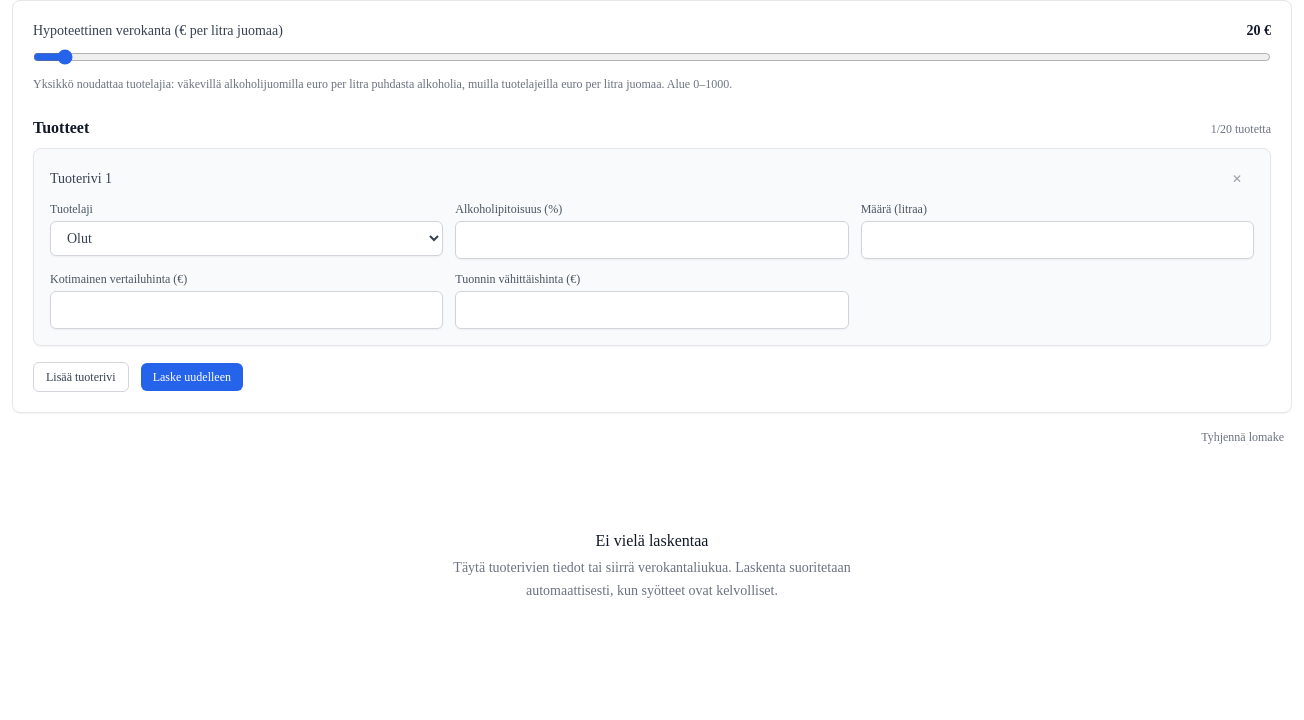
Test case: WhatIfPage — failure degradation › degrades a 403 (backend rejection) to the unavailable message
The width and height of the screenshot is (1304, 720).
In the field labelled "Alkoholipitoisuus (%)": {"x": 652, "y": 240} x1=455 y1=221 x2=849 y2=259, type "4,7"
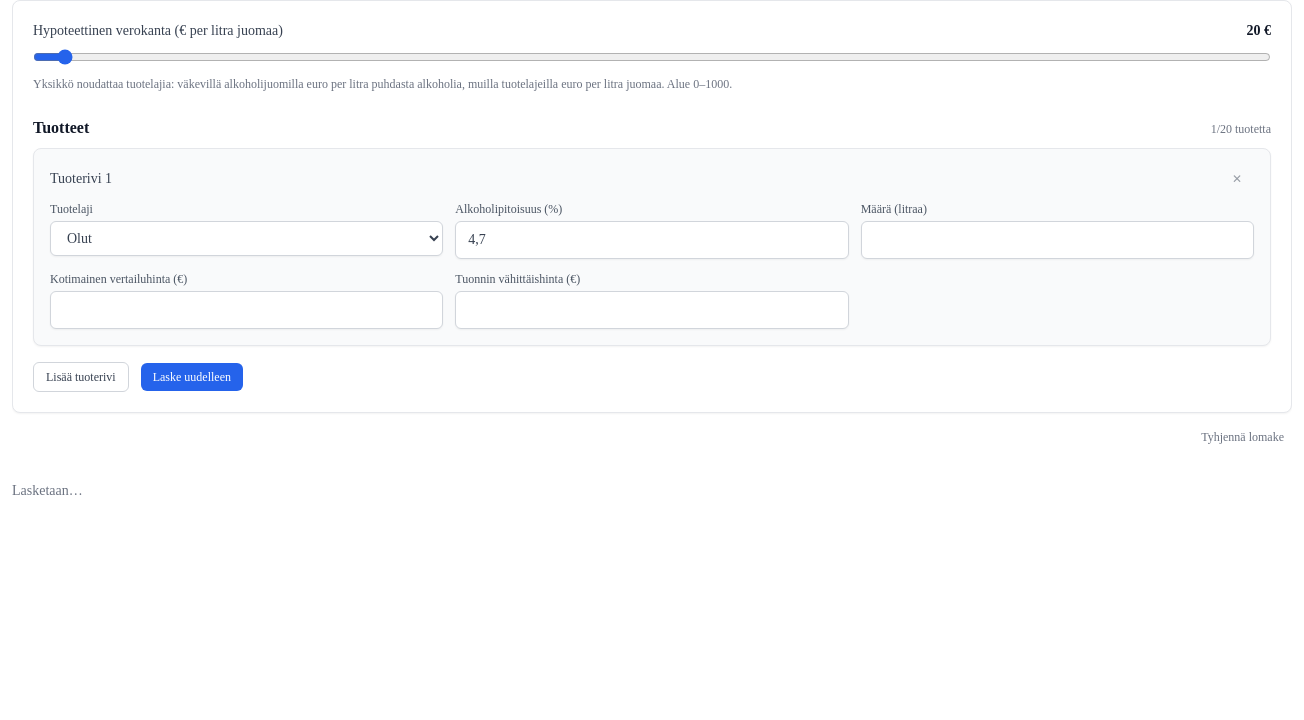
In the field labelled "Määrä (litraa)": {"x": 1057, "y": 240} x1=861 y1=221 x2=1254 y2=259, type "1"
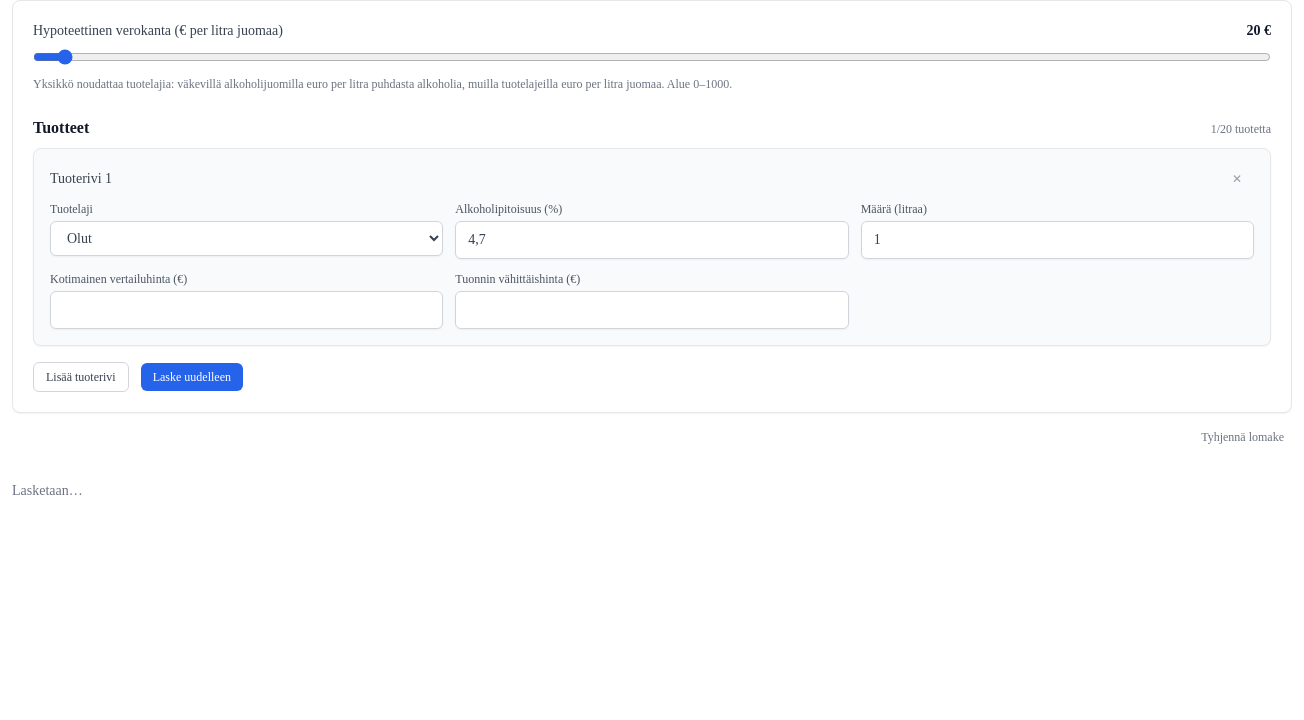
In the field labelled "Kotimainen vertailuhinta (€)": {"x": 247, "y": 310} x1=50 y1=291 x2=443 y2=329, type "12,98"
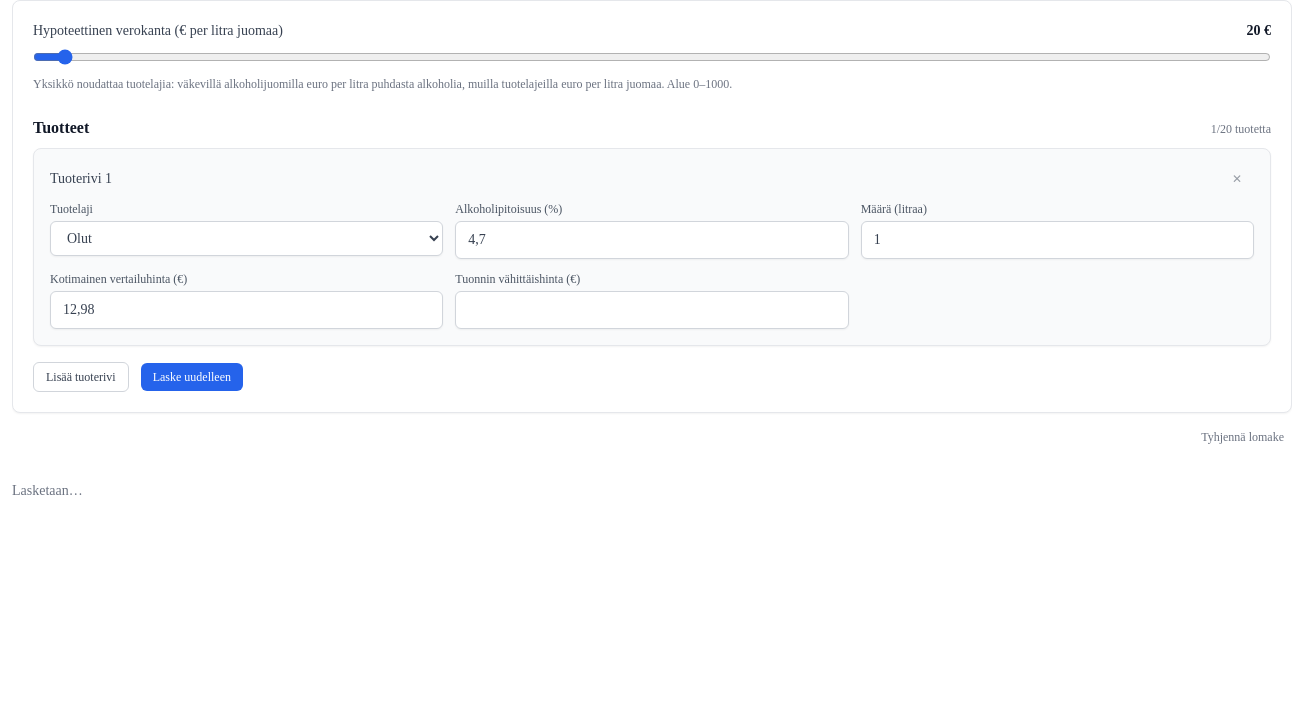
In the field labelled "Tuonnin vähittäishinta (€)": {"x": 652, "y": 310} x1=455 y1=291 x2=849 y2=329, type "0,89"
Wait 800 ms
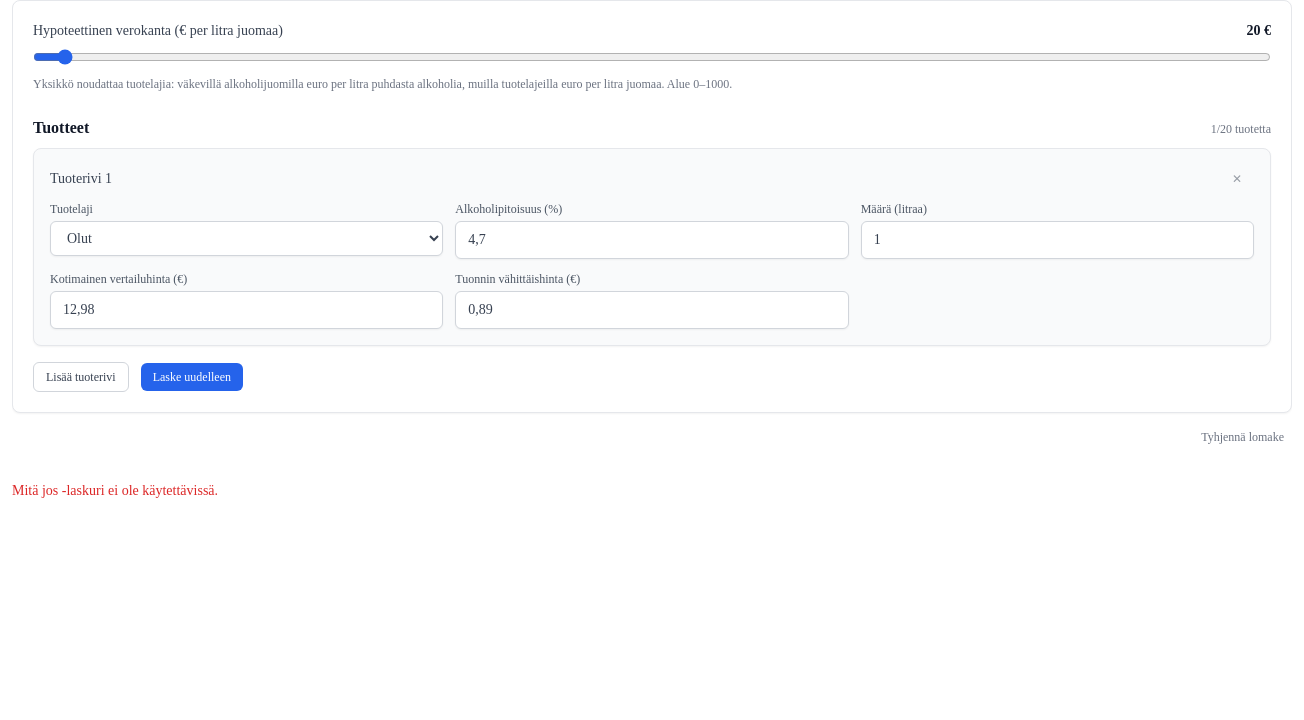
Now the message reads "Mitä jos -laskuri ei ole käytettävissä.", box x1=12 y1=483 x2=218 y2=498
